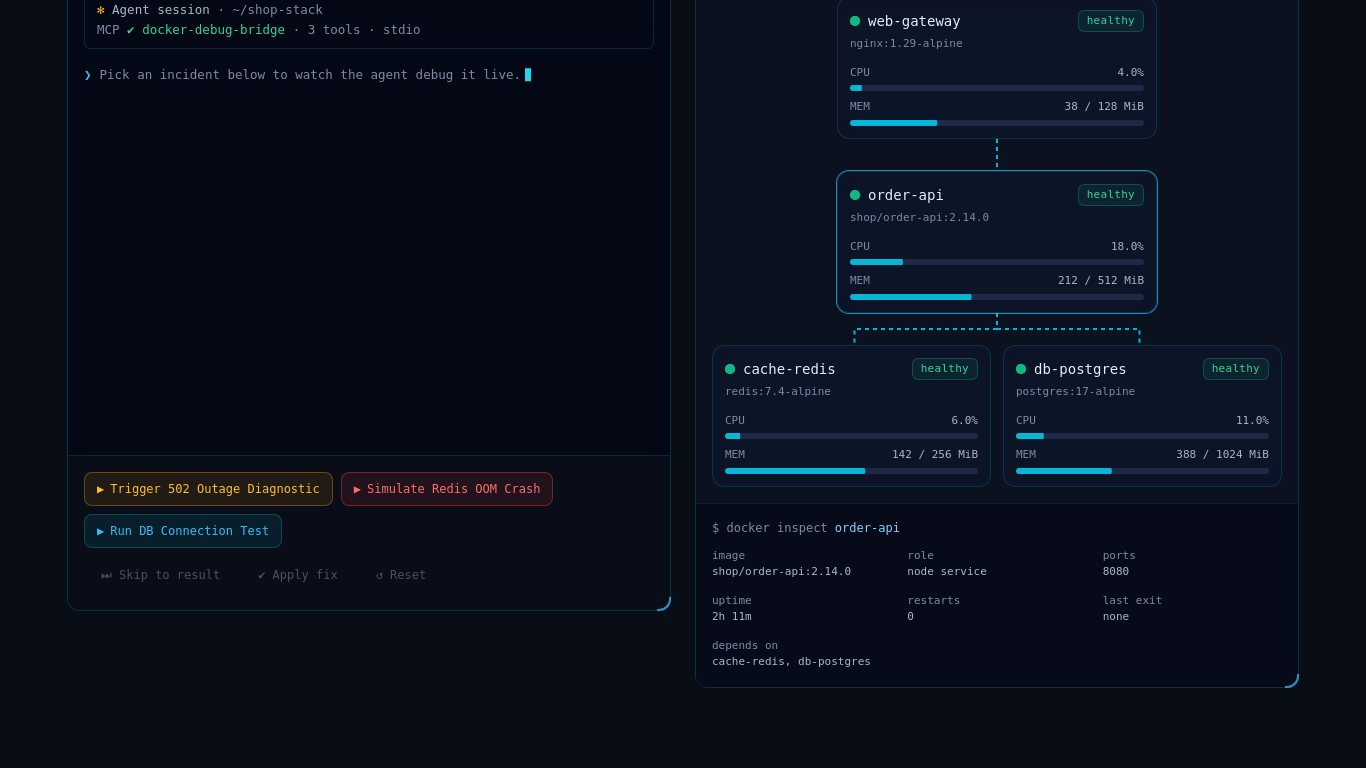
Test: SimulatorSection › heals the mesh when the fix is applied and clears on reset
(page scrolled)
Click the button "▶Simulate Redis OOM Crash" at (447, 488), box [341,472,553,506]
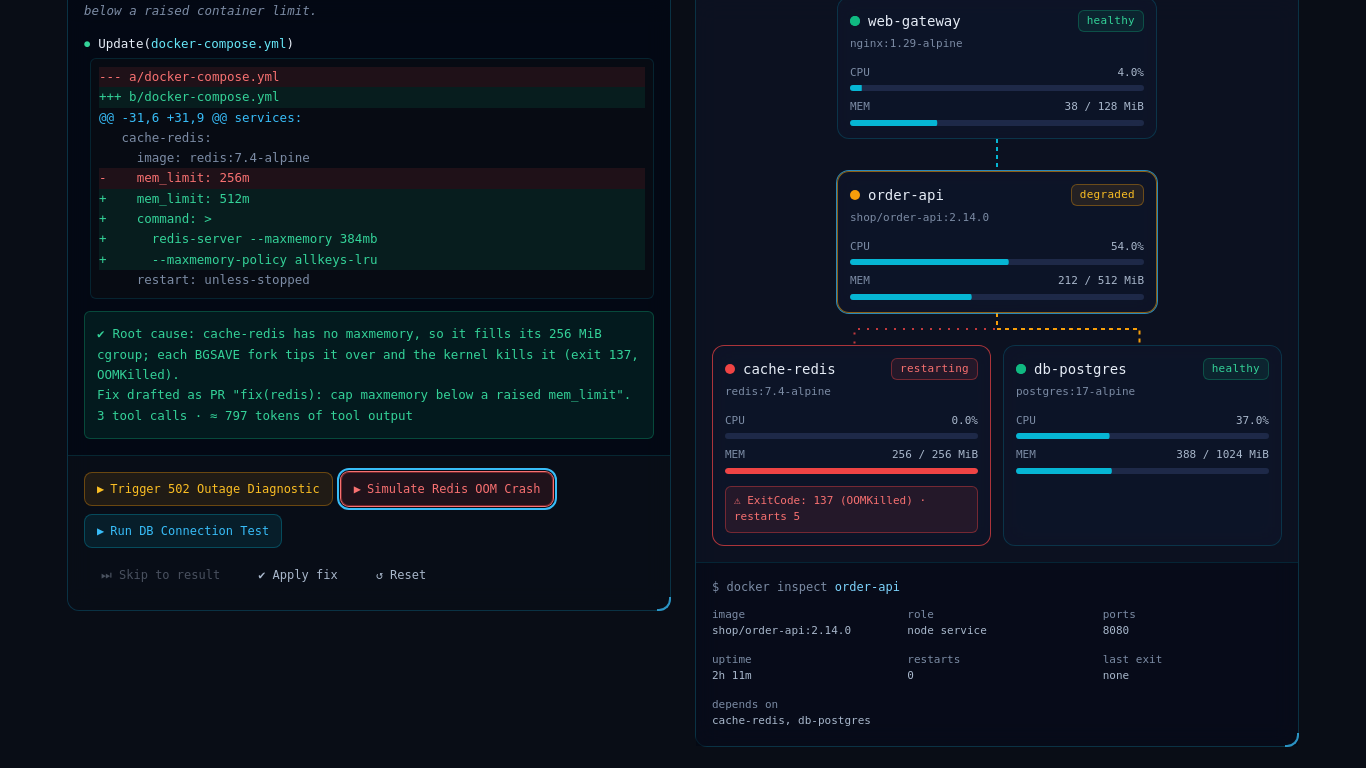
Click the button "✔ Apply fix" at (298, 574), box [241,556,355,594]
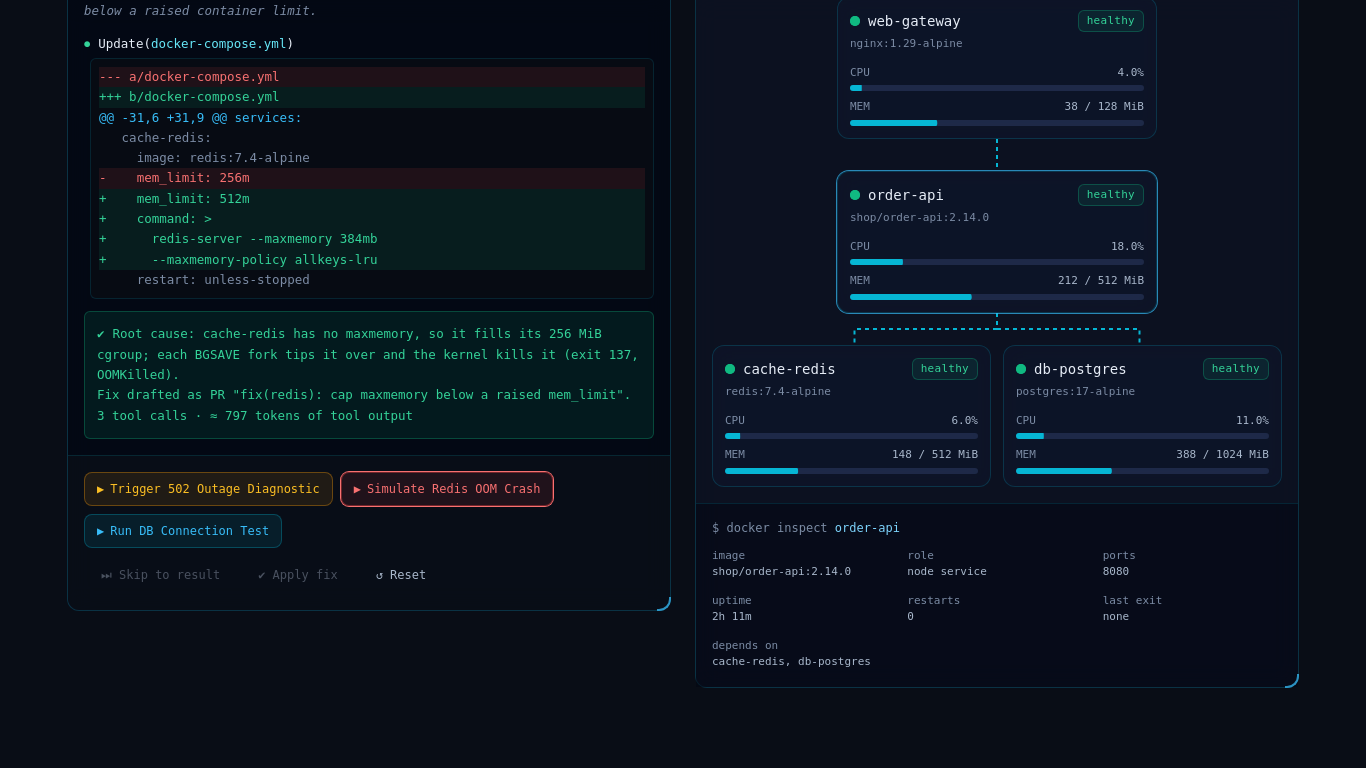
Click the button "↺ Reset" at (401, 574), box [359,556,443,594]
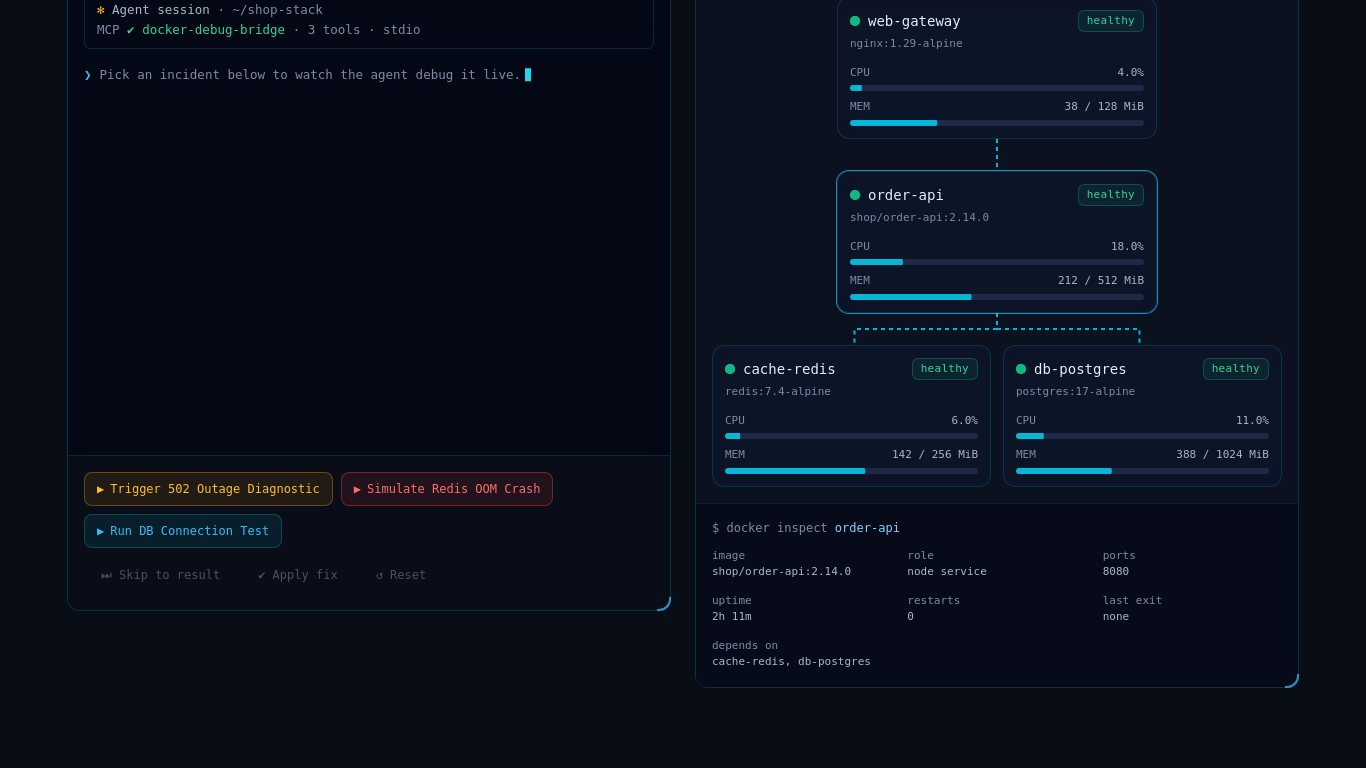
Expected: the text "❯Pick an incident below to watch the agent debug it live." is shown, [84,67,531,82]
